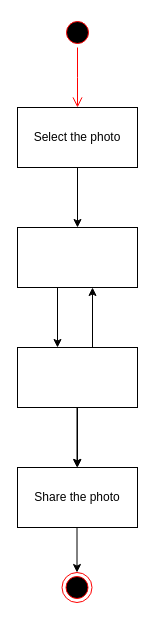
This 155x620 diagram has some shape labels left out. Each missing label, with the centre of its shape:
Edit the photo: (x=77, y=257)
Save the photo: (x=77, y=377)
